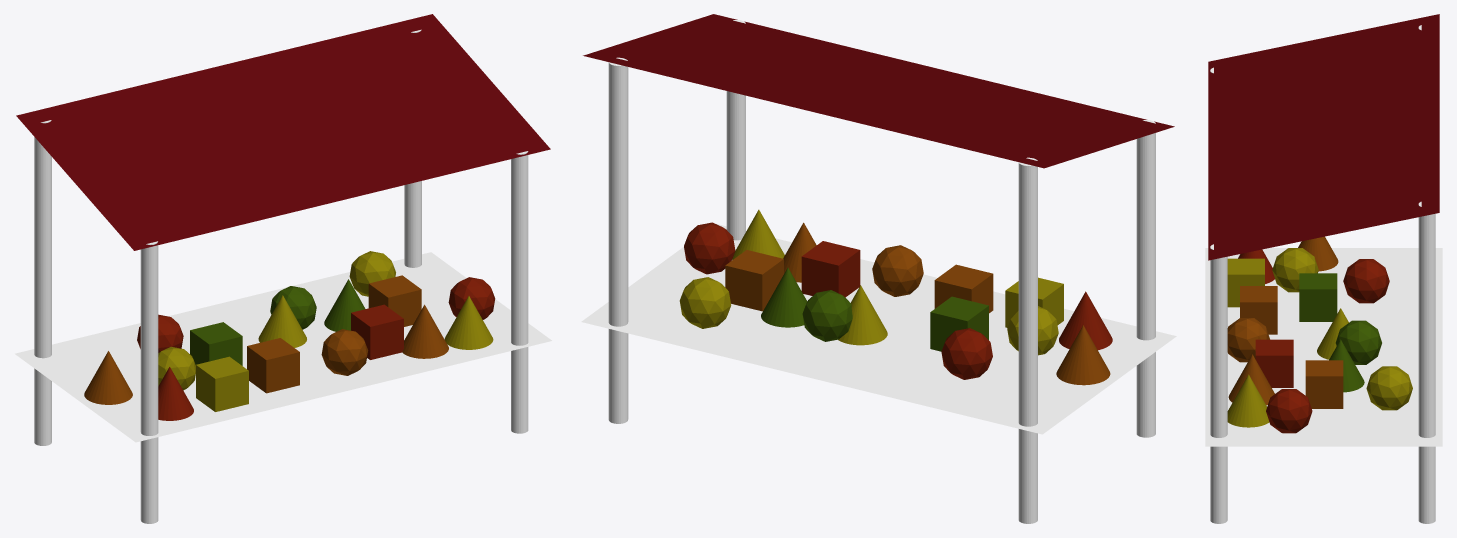
File: puesto2.glb
The picture shows the model from 3 angles, left to right: view 1: azimuth 30°, elevation 25°; view 2: azimuth 150°, elevation 25°; view 3: azimuth 270°, elevation 25°; orthographic projection. The views are drawn at different scales.
Visible parts, largest first — view 1: Cylinder, Cube, Cube.001, Cube.002, Cube.003, Cube.004, Icosphere.004, Cone.004, Cone, Cone.005, Icosphere.005, Cone.002 (+6 smaller); view 2: Cylinder, Cube.002, Cube.003, Cube.004, Icosphere.005, Icosphere.004, Icosphere, Icosphere.002, Icosphere.001, Cube.001, Cone, Cone.003 (+6 smaller); view 3: Cylinder, Cube.004, Cube.003, Cube.002, Icosphere, Icosphere.005, Icosphere.002, Cube.001, Icosphere.001, Cone.004, Icosphere.003, Cube (+6 smaller).
Boxes of the visible parts, bbox=[...] form: Cylinder: bbox=[15, 14, 551, 523]; Cube: bbox=[196, 356, 248, 411]; Cube.001: bbox=[247, 338, 299, 393]; Cube.002: bbox=[351, 304, 403, 359]; Cube.003: bbox=[368, 275, 421, 326]; Cube.004: bbox=[190, 322, 242, 365]; Icosphere.004: bbox=[321, 329, 368, 375]; Cone.004: bbox=[444, 296, 493, 349]; Cone: bbox=[84, 351, 132, 404]; Cone.005: bbox=[402, 304, 448, 358]; Icosphere.005: bbox=[349, 251, 395, 296]; Cone.002: bbox=[258, 295, 306, 347]; Cylinder: bbox=[581, 14, 1176, 523]; Cube.002: bbox=[801, 241, 860, 297]; Cube.003: bbox=[725, 250, 783, 311]; Cube.004: bbox=[930, 296, 988, 351]; Icosphere.005: bbox=[679, 277, 731, 328]; Icosphere.004: bbox=[872, 245, 923, 296]; Icosphere: bbox=[941, 328, 992, 379]; Icosphere.002: bbox=[684, 222, 735, 274]; Icosphere.001: bbox=[802, 290, 852, 341]; Cube.001: bbox=[934, 264, 993, 313]; Cone: bbox=[1056, 325, 1110, 385]; Cone.003: bbox=[761, 267, 807, 327]; Cylinder: bbox=[1205, 14, 1442, 523]; Cube.004: bbox=[1299, 273, 1337, 321]; Cube.003: bbox=[1305, 360, 1343, 408]; Cube.002: bbox=[1255, 339, 1293, 387]; Icosphere: bbox=[1343, 259, 1389, 303]; Icosphere.005: bbox=[1366, 366, 1412, 410]; Icosphere.002: bbox=[1266, 389, 1312, 433]; Cube.001: bbox=[1240, 286, 1277, 334]; Icosphere.001: bbox=[1335, 320, 1381, 364]; Cone.004: bbox=[1227, 374, 1269, 427]; Icosphere.003: bbox=[1272, 248, 1318, 292]; Cube: bbox=[1227, 258, 1264, 307].
Size of what is drawn, in the model's own units: 54.71 by 41.03 by 27.58.
